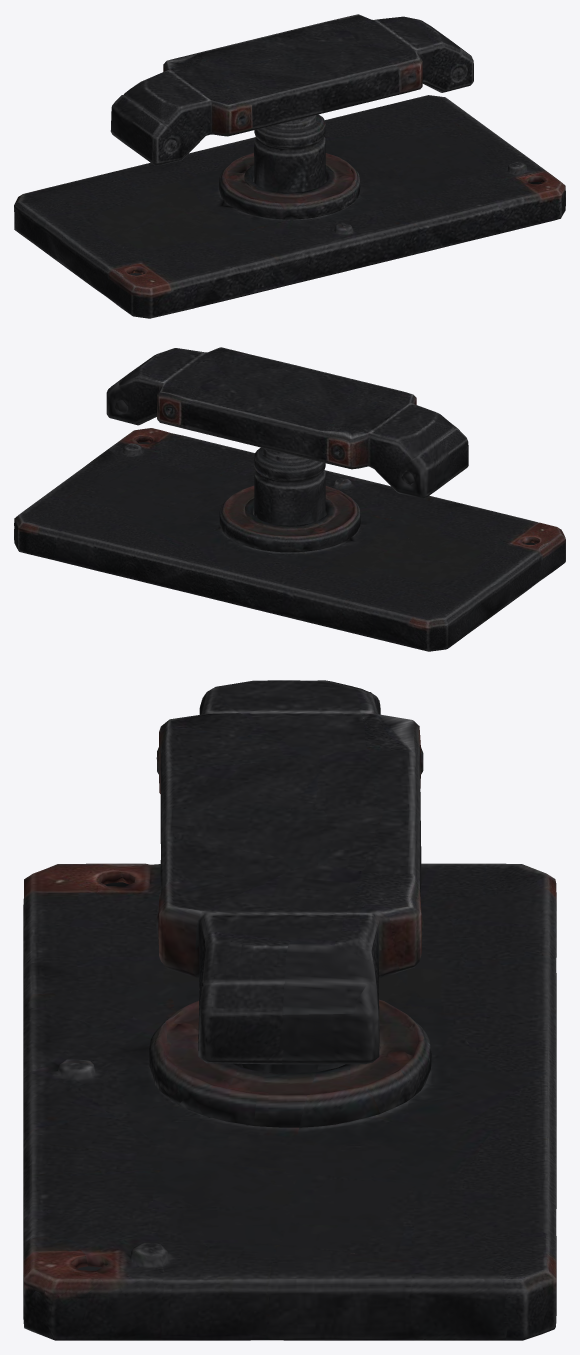
Rendered from new_horizontal_saw_mount.glb.
The picture shows the model from 3 angles, top to bottom: view 1: azimuth 30°, elevation 25°; view 2: azimuth 150°, elevation 25°; view 3: azimuth 270°, elevation 25°; orthographic projection. The views are drawn at different scales.
Visible parts, largest first — view 1: mesh_node; view 2: mesh_node; view 3: mesh_node.
Boxes of the visible parts, box(x1,y1,x2,y2) form: mesh_node: box(14, 14, 565, 318); mesh_node: box(14, 347, 565, 651); mesh_node: box(23, 680, 556, 1340).
Bounding box in the file's own units: 1.9 × 0.6722 × 1.01.
1 material, 1 textured.
